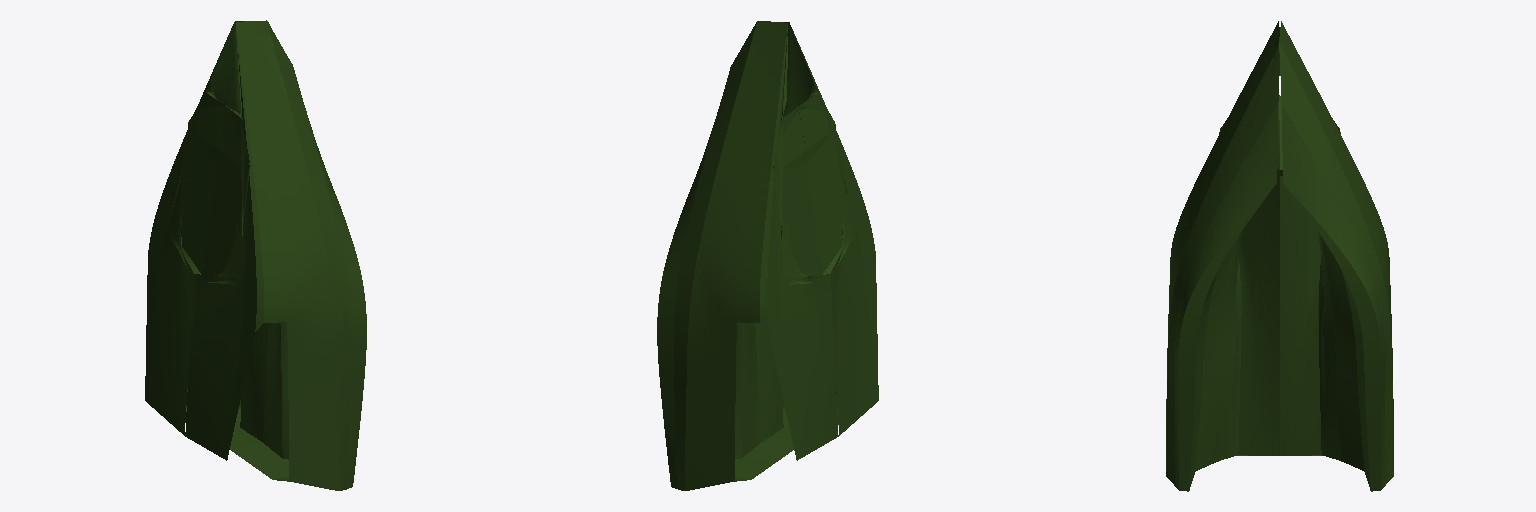
URDF robot description (snakebot_v1):
<?xml version="1.0" encoding="utf-8"?>
<robot name="snakebot_v1">
  
  <material name="Blue">
    <color rgba="0.2 0.1 0.8 1.0"/>
  </material>
  <material name="Green">
    <color rgba="0.22 0.32 0.14 1.0"/>
  </material>

  <!-- attach the base_link to world -->
  <link name="world"/>

  <joint name="fixed" type="fixed">
    <parent link="world"/>
    <child link="base_link"/>
  </joint>

  <link name="base_link">
    <visual>
      <origin
        xyz="0. 0. 0."
        rpy="1.57079632679 0 1.57079632679"
      />
      <geometry>
        <mesh
          filename="package://snakebot_v1/meshes/bridge.stl" scale="0.0013 0.0013 0.0013"/>
      </geometry>
      <material name="Blue"/>
    </visual>
    
    <!-- in gazebo, there has to be a mass and an inertia for each link -->
    <inertial>
      <origin xyz="0 0 0.036" rpy="0 0 0"/>
      <mass value="1"/>
      <inertia
    ixx="0.1" ixy="0.0" ixz="0.0"
    iyy="0.1" iyz="0.0"
    izz="0.1"/>
    </inertial>
  </link>

  <joint name="rod_one_joint" type="continuous">
    <origin
      xyz="0. 0. 0."
      rpy="0. 0. 0."
    />
    <parent link="base_link"/>
    <child link="link2"/>
    <safety_controller k_position="100.0" k_velocity="40.0" soft_lower_limit="-1.5" soft_upper_limit="1.5"/>
    <limit effort="0.01" lower="-1" upper="1" velocity="0.5"/>
    <dynamics damping="0.7"/>
  </joint>

  <link name="link2">
    <visual>
      <origin
        xyz="0. 0. 0.072"
        rpy="1.57079632679 0 0."
      />
      <geometry>
        <mesh
          filename="package://snakebot_v1/meshes/bridge.stl" scale="0.0013 0.0013 0.0013"/>
      </geometry>
      <material name="Green"/>
    </visual>

    <inertial>
      <origin xyz="0 0 0.036" rpy="0 0 0"/>
      <mass value="1"/>
      <inertia
      ixx="0.1" ixy="0.0" ixz="0.0"
      iyy="0.1" iyz="0.0"
      izz="0.1"/>
      </inertial>
  </link>

  <joint name="rod_two_joint" type="continuous">
    <origin
      xyz="0. 0. 0.072"
      rpy="0. 0. 1.57079632679"
    />
    <parent link="link2"/>
    <child link="link3"/>
    <safety_controller k_position="100.0" k_velocity="40.0" soft_lower_limit="-1.5" soft_upper_limit="1.5"/>
    <limit effort="0.01" lower="-1" upper="1" velocity="0.5"/>
    <dynamics damping="0.7"/>
  </joint>

  <link name="link3">
    <visual>
      <origin
        xyz="0. 0. 0.072"
        rpy="1.57079632679 0 1.57079632679"
      />
      <geometry>
        <mesh
          filename="package://snakebot_v1/meshes/bridge.stl" scale="0.0013 0.0013 0.0013"/>
      </geometry>
      <material name="Green"/>
    </visual>

    <inertial>
      <origin xyz="0 0 0.036" rpy="0 0 0"/>
      <mass value="1"/>
      <inertia
      ixx="0.1" ixy="0.0" ixz="0.0"
      iyy="0.1" iyz="0.0"
      izz="0.1"/>
    </inertial>
  </link>

  <joint name="rod_three_joint" type="continuous">
    <origin
      xyz="0. 0. 0.072"
      rpy="0. 0. -1.57079632679"
    />
    <parent link="link3"/>
    <child link="link4"/>
    <safety_controller k_position="100.0" k_velocity="40.0" soft_lower_limit="-1.5" soft_upper_limit="1.5"/>
    <limit effort="0.01" lower="-1" upper="1" velocity="0.5"/>
    <dynamics damping="0.7"/>
  </joint>

  <link name="link4">
    <visual>
      <origin
        xyz="0. 0. 0.072"
        rpy="1.57079632679 0 0."
      />
      <geometry>
        <mesh
          filename="package://snakebot_v1/meshes/bridge.stl" scale="0.0013 0.0013 0.0013"/>
      </geometry>
      <material name="Green"/>
    </visual>

    <inertial>
      <origin xyz="0 0 0.036" rpy="0 0 0"/>
      <mass value="1"/>
      <inertia
      ixx="0.1" ixy="0.0" ixz="0.0"
      iyy="0.1" iyz="0.0"
      izz="0.1"/>
    </inertial>
  </link>

  <joint name="rod_four_joint" type="continuous">
    <origin
      xyz="0. 0. 0.072"
      rpy="0. 0. 1.57079632679"
    />
    <parent link="link4"/>
    <child link="link5"/>
    <safety_controller k_position="100.0" k_velocity="40.0" soft_lower_limit="-1.5" soft_upper_limit="1.5"/>
    <limit effort="0.01" lower="-1" upper="1" velocity="0.5"/>
    <dynamics damping="0.7"/>
  </joint>

  <link name="link5">
    <visual>
      <origin
        xyz="0. 0. 0.072"
        rpy="1.57079632679 0 1.57079632679"
      />
      <geometry>
        <mesh
          filename="package://snakebot_v1/meshes/bridge.stl" scale="0.0013 0.0013 0.0013"/>
      </geometry>
      <material name="Green"/>
    </visual>

    <inertial>
      <origin xyz="0 0 0.036" rpy="0 0 0"/>
      <mass value="1"/>
      <inertia
      ixx="0.1" ixy="0.0" ixz="0.0"
      iyy="0.1" iyz="0.0"
      izz="0.1"/>
    </inertial>
  </link>

  <joint name="rod_five_joint" type="continuous">
    <origin
      xyz="0. 0. 0.072"
      rpy="0. 0. -1.57079632679"
    />
    <parent link="link5"/>
    <child link="link6"/>
    <safety_controller k_position="100.0" k_velocity="40.0" soft_lower_limit="-1.5" soft_upper_limit="1.5"/>
    <limit effort="0.01" lower="-1" upper="1" velocity="0.5"/>
    <dynamics damping="0.7"/>
  </joint>

  <link name="link6">
    <visual>
      <origin
        xyz="0. 0. 0.072"
        rpy="1.57079632679 0 0."
      />
      <geometry>
        <mesh
          filename="package://snakebot_v1/meshes/bridge.stl" scale="0.0013 0.0013 0.0013"/>
      </geometry>
      <material name="Green"/>
    </visual>

    <inertial>
      <origin xyz="0 0 0.036" rpy="0 0 0"/>
      <mass value="1"/>
      <inertia
      ixx="0.1" ixy="0.0" ixz="0.0"
      iyy="0.1" iyz="0.0"
      izz="0.1"/>
    </inertial>
  </link>

  <joint name="rod_six_joint" type="continuous">
    <origin
      xyz="0. 0. 0.072"
      rpy="0. 0. 1.57079632679"
    />
    <parent link="link6"/>
    <child link="headlink"/>
    <safety_controller k_position="100.0" k_velocity="40.0" soft_lower_limit="-1.5" soft_upper_limit="1.5"/>
    <limit effort="0.01" lower="-1" upper="1" velocity="0.5"/>
    <dynamics damping="0.7"/>
  </joint>


  <link name="headlink">
    <visual>
      <origin
        xyz="0.00 -0.009 0.01"
        rpy="0 0 0"
      />
      <geometry>
        <mesh
          filename="package://snakebot_v1/meshes/head.stl" scale="0.008 0.012 0.008"/>
      </geometry>
      <material name="Green"/>
    </visual>
    <collision>
      <origin
        xyz="0.00 -0.009 0.01"
        rpy="0 0 0"/>
      <geometry>
        <mesh
          filename="package://snakebot_v1/meshes/head.stl" scale="0.008 0.012 0.008"/>
      </geometry>
    </collision>
    <inertial>
      <origin xyz="0 0 0.0" rpy="0 0 0"/>
      <mass value="1"/>
      <inertia
      ixx="0.1" ixy="0.0" ixz="0.0"
      iyy="0.1" iyz="0.0"
      izz="0.05"/>
    </inertial>
  </link>
</robot>

--- Facts derived from the render (not from the file) ---
The picture shows the robot from 3 angles, left to right: view 1: azimuth 30°, elevation 25°; view 2: azimuth 150°, elevation 25°; view 3: azimuth 270°, elevation 25°; orthographic projection.
Model snakebot_v1 with 8 links and 7 joints (6 continuous, 1 fixed), rooted at world, posed all joints at 0.
Links seen in each view (by area): view 1: headlink; view 2: headlink; view 3: headlink.
Link boxes in pixels (x1,y1,x2,y2): headlink: (145, 20, 366, 490); headlink: (657, 21, 878, 490); headlink: (1166, 21, 1393, 491).
Size in the robot's own frame: 0.0389 by 0.0587 by 0.1248 metres.
1 mesh visuals loaded from 2 distinct referenced files (1 binary STL); not drawn: 6 (reference not matched to a file when rendering).